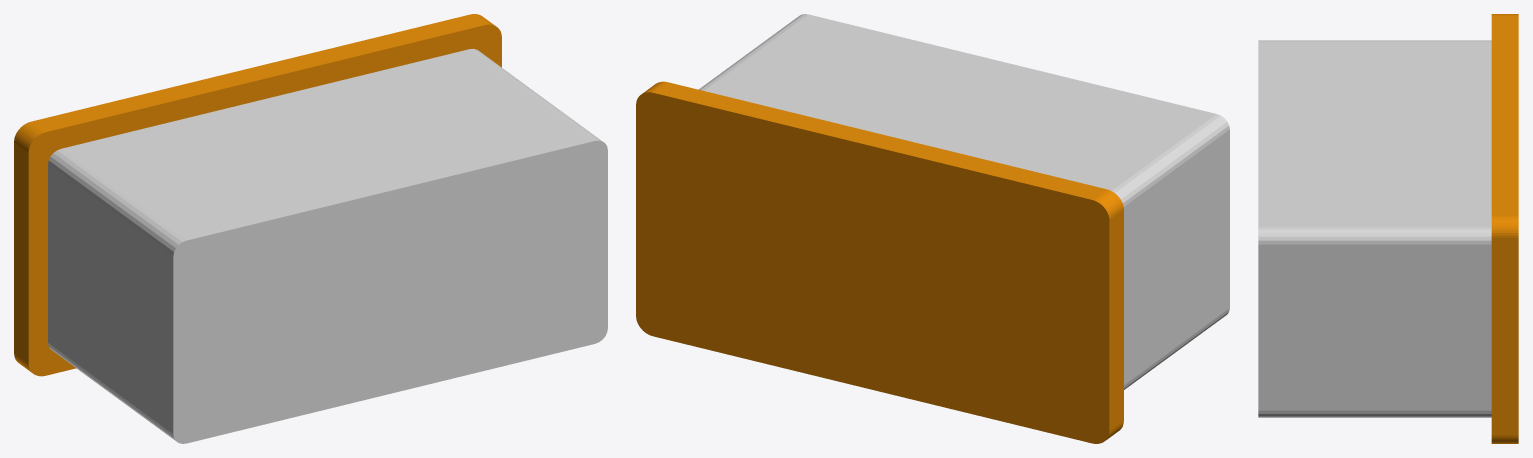
The model's file is counter.fbx.
3 views of the same model, side by side, from view 1: azimuth 30°, elevation 25°; view 2: azimuth 150°, elevation 25°; view 3: azimuth 270°, elevation 25° (orthographic). The views are drawn at different scales.
Parts seen in each view (by area): view 1: Counter; view 2: Counter; view 3: Counter.
Boxes of the visible parts, box(x1,y1,x2,y2) form: Counter: box(14, 14, 607, 443); Counter: box(636, 14, 1229, 443); Counter: box(1258, 14, 1518, 443).
Size of the model in its own units: 244 by 120 by 125.
